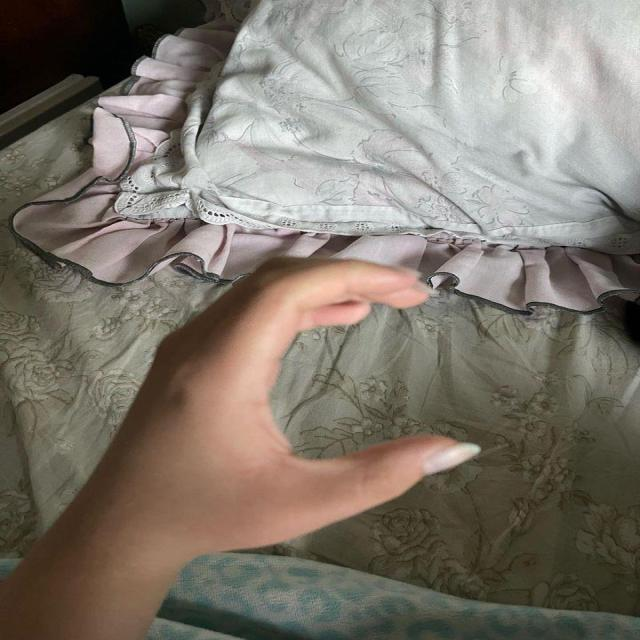C: (123, 255, 485, 548)
